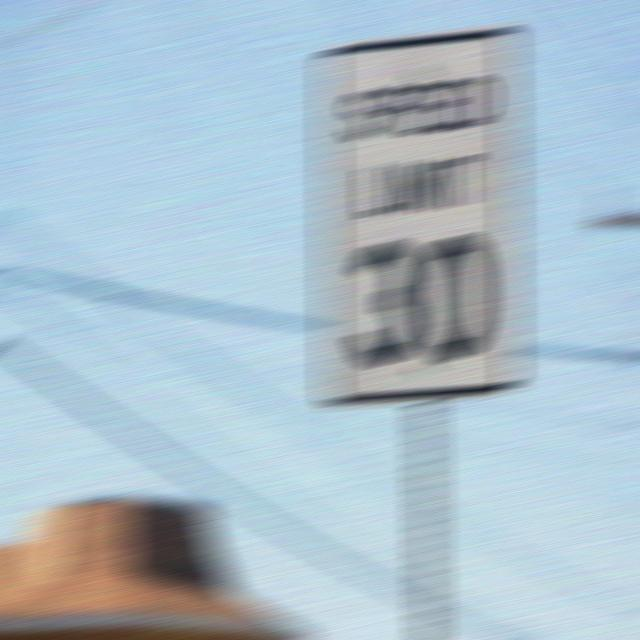speedLimit30: (315, 22, 525, 410)
